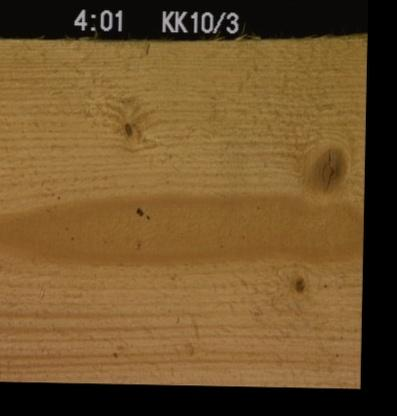small_knot: (288, 270, 309, 297), (119, 117, 136, 139)
sound_knot: (303, 143, 352, 193)
